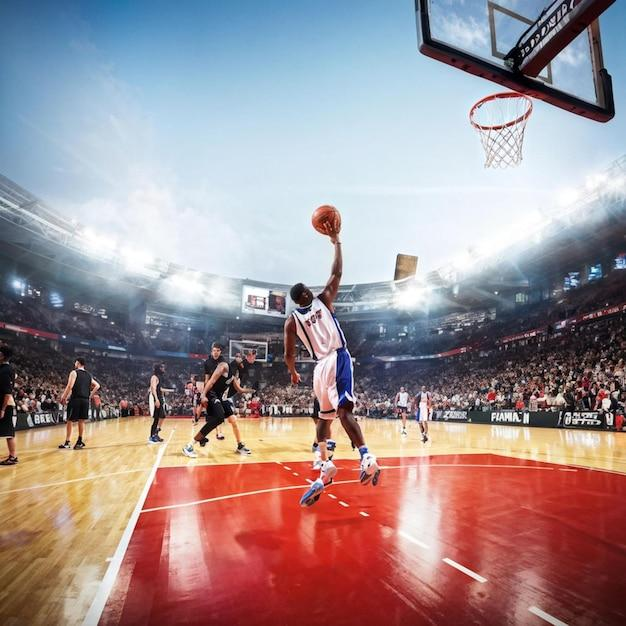basketball: (313, 200, 342, 238)
